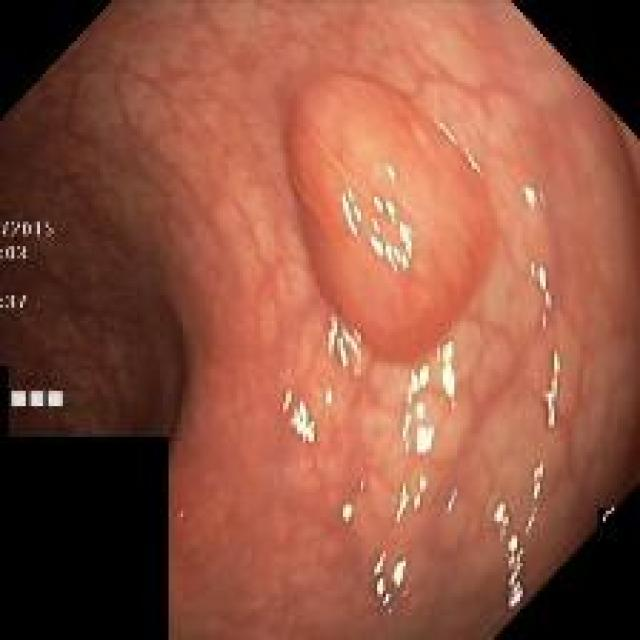Polyps: (289, 73, 496, 363)
